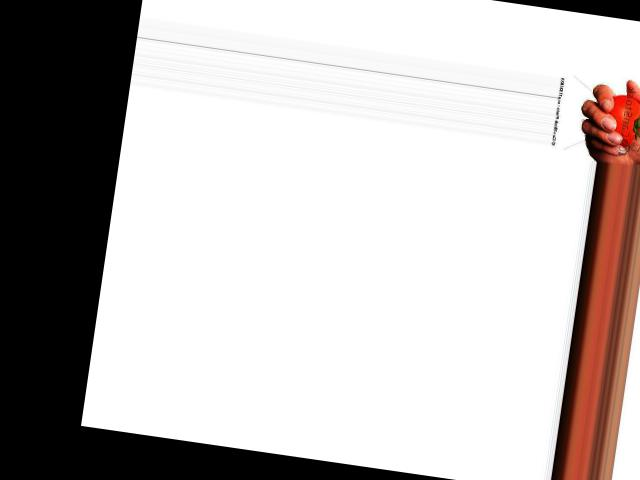tomato: (605, 93, 640, 148)
